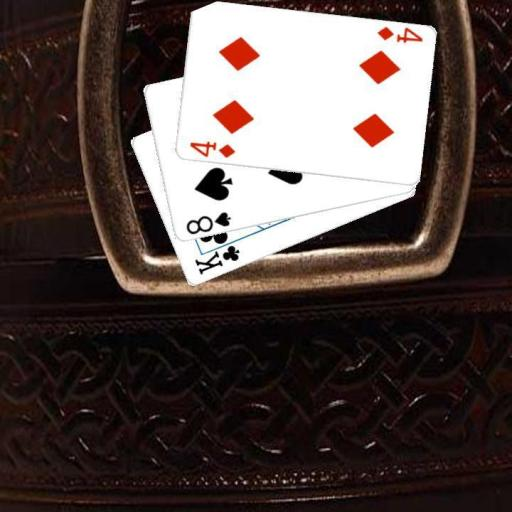card-corner: (191, 234, 241, 276), (182, 209, 232, 236), (373, 23, 424, 45), (186, 138, 236, 160)
